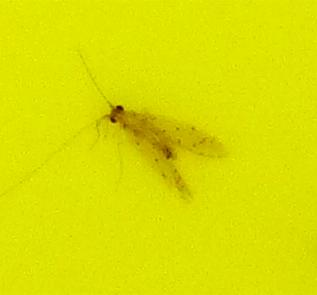Plecoptera: (100, 100, 217, 195)
